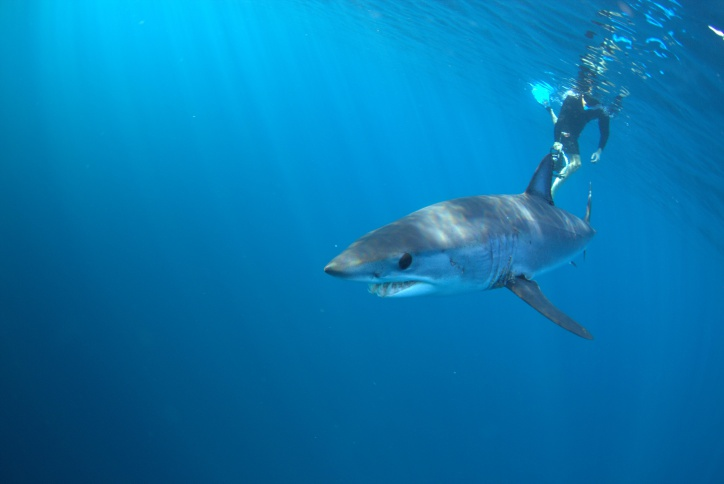Mako: (312, 152, 630, 349)
